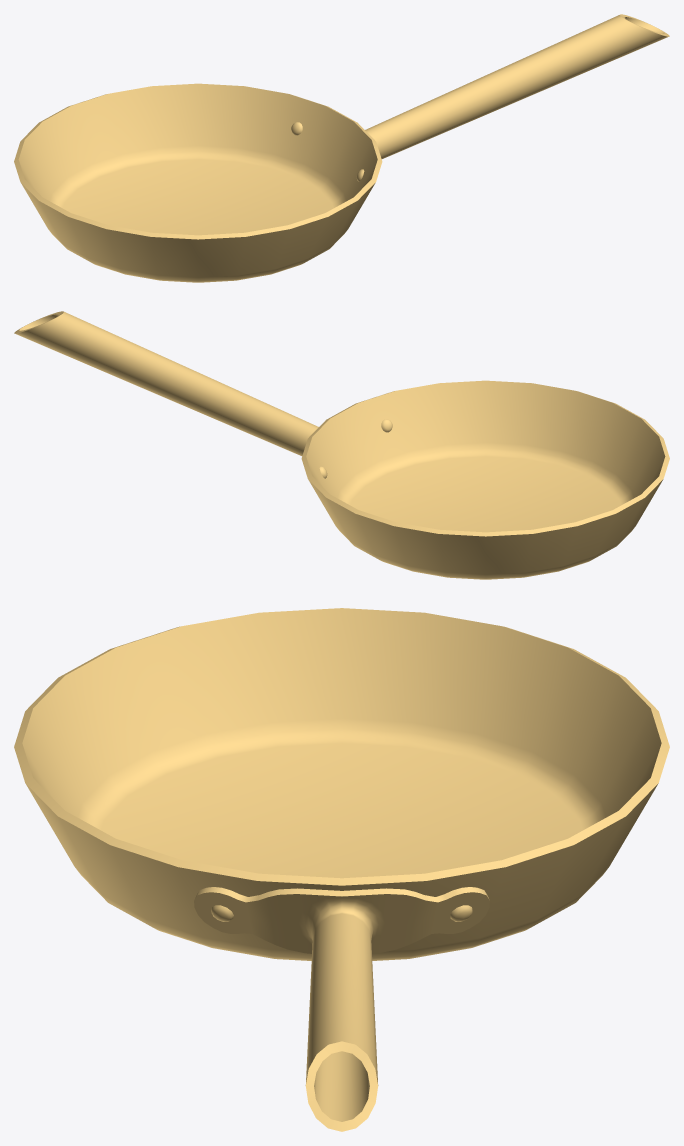
File: SM_Pan_02.fbx
3 renders of one model, top to bottom at view 1: azimuth 30°, elevation 25°; view 2: azimuth 150°, elevation 25°; view 3: azimuth 270°, elevation 25°, orthographic. The views are drawn at different scales.
Visible parts, largest first — view 1: SM_Pan_02; view 2: SM_Pan_02; view 3: SM_Pan_02.
Part boxes in pixels (x1=…): SM_Pan_02: x1=14, y1=14, x2=669, y2=282; SM_Pan_02: x1=14, y1=311, x2=669, y2=579; SM_Pan_02: x1=14, y1=608, x2=669, y2=1131.
Size of the model in its own units: 55.57 by 8.64 by 28.19.
